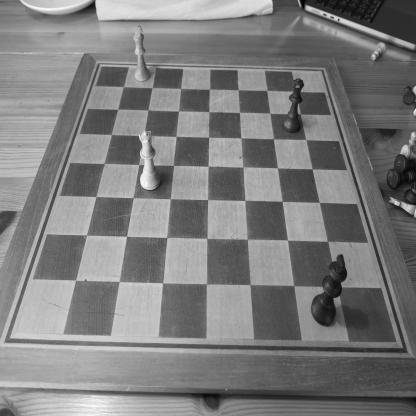black-king: (310, 254, 348, 327)
black-queen: (282, 78, 305, 134)
white-king: (132, 25, 150, 82)
white-knight: (388, 196, 415, 222)
white-pawn: (371, 41, 387, 62), (408, 130, 415, 153)
white-queen: (139, 130, 161, 191)
